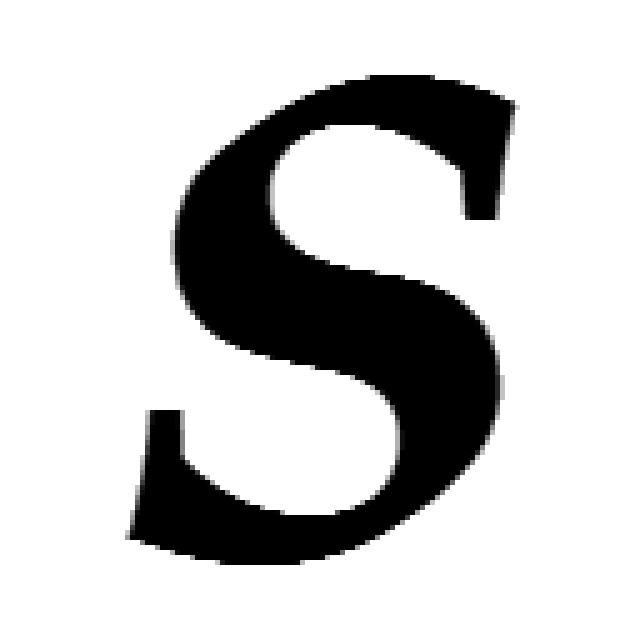S: (120, 60, 525, 570)
